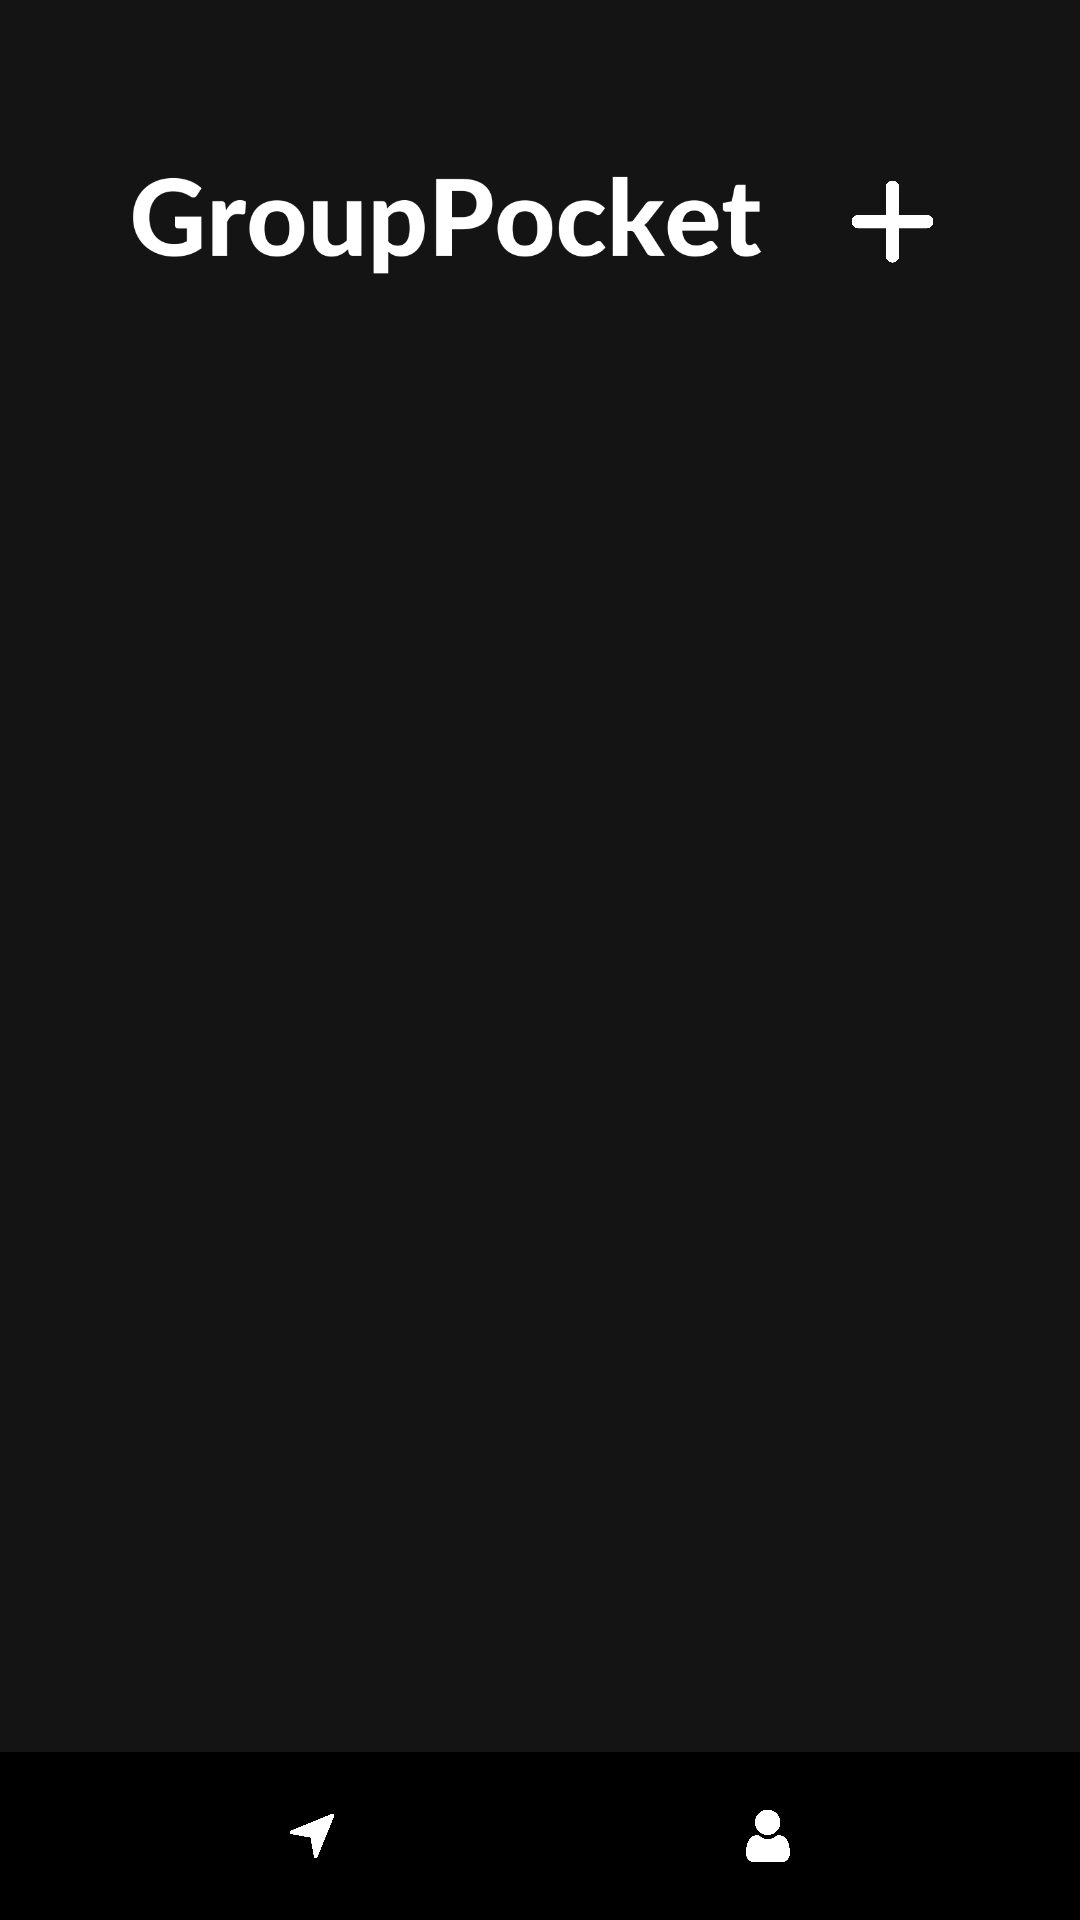

Icons on this 1080w x 1920h Android screen, each with the point to tap as (x,y):
Account: (768,1836)
Add: (892,222)
Navigation: (312,1836)
